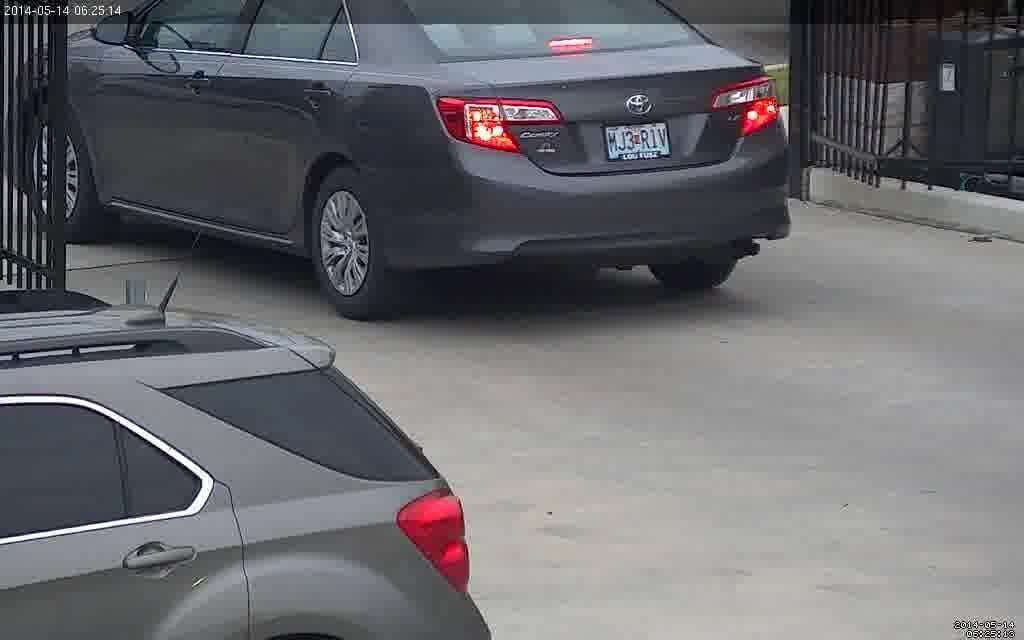placa de veiculo: (590, 106, 689, 174)
